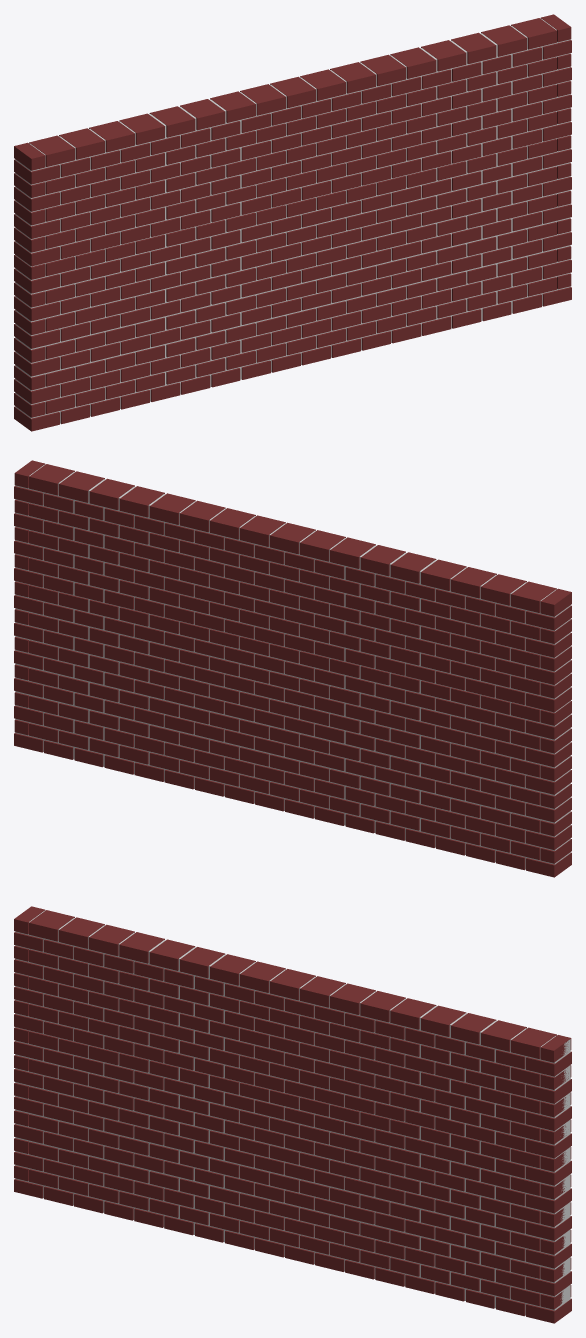
File: WallCombined.fbx
3 renders of one model, top to bottom at view 1: azimuth 30°, elevation 25°; view 2: azimuth 150°, elevation 25°; view 3: azimuth 330°, elevation 25°, orthographic.
Parts seen in each view (by area): view 1: group1; view 2: group1; view 3: group1.
Boxes of the visible parts, <box> form: group1: <box>14,14,571,431</box>; group1: <box>14,460,571,877</box>; group1: <box>14,906,571,1323</box>.
Size of the model in its own units: 0.9834 by 0.4741 by 0.0552.
